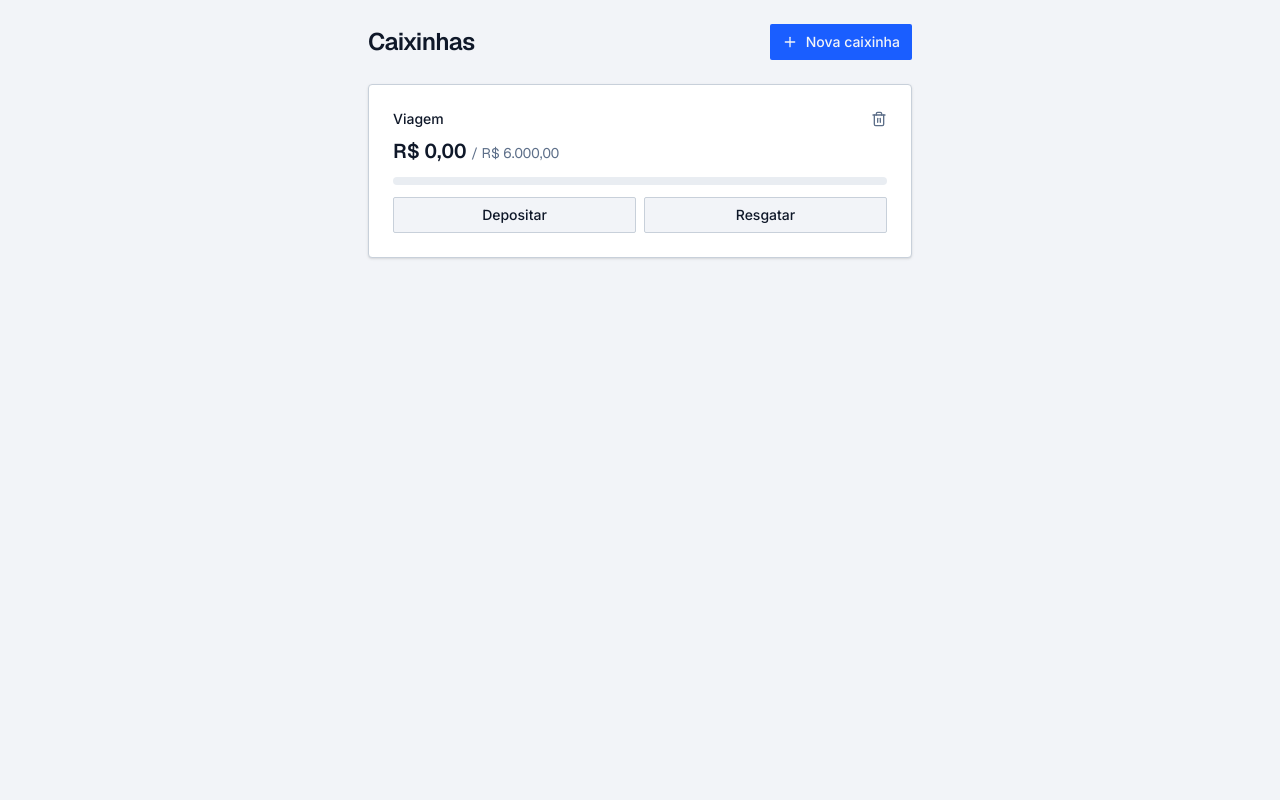
Test: fluxos assincronos — optimistic com rollback › exclui a caixinha na hora e devolve o card com aviso se a API falhar
Check: the text "Viagem" is shown, box [393,110,444,127]
Click the button named "Excluir caixinha Viagem".
click(879, 119)  # box [871,111,887,127]
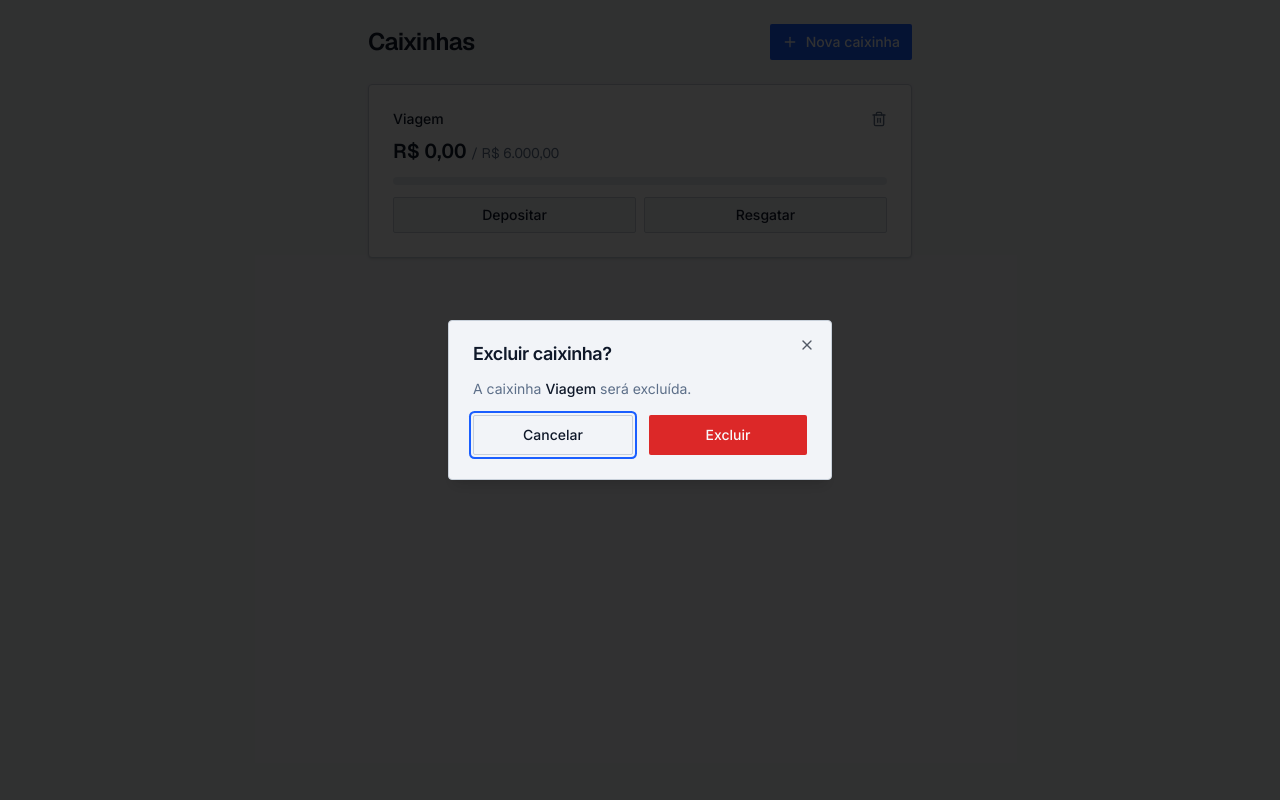
Check: the heading "Excluir caixinha?" is shown, box [473,343,612,364]
Click the button "Excluir".
click(728, 435)  # box [649,415,807,455]
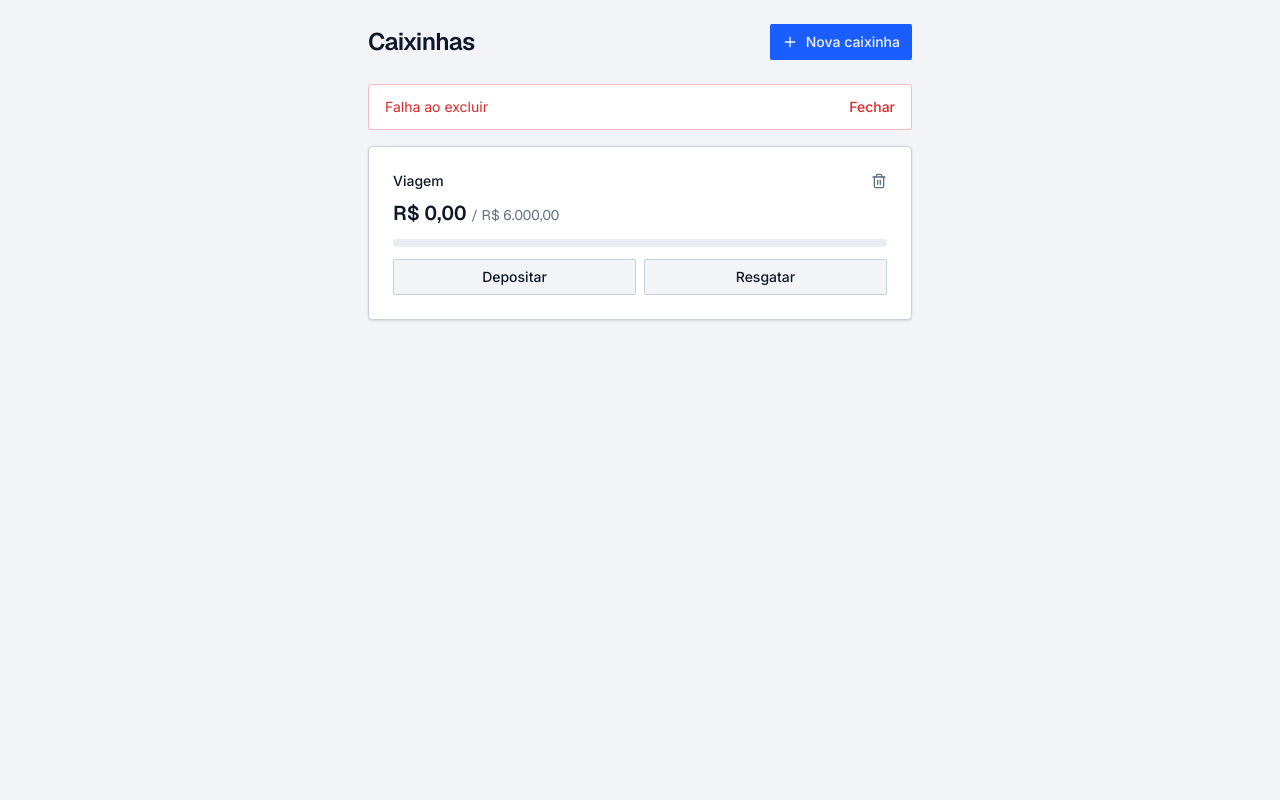
Check: the text "Viagem" is shown, box [393,172,444,189]
Check: the message shows "Falha ao excluir", box [385,98,488,115]
